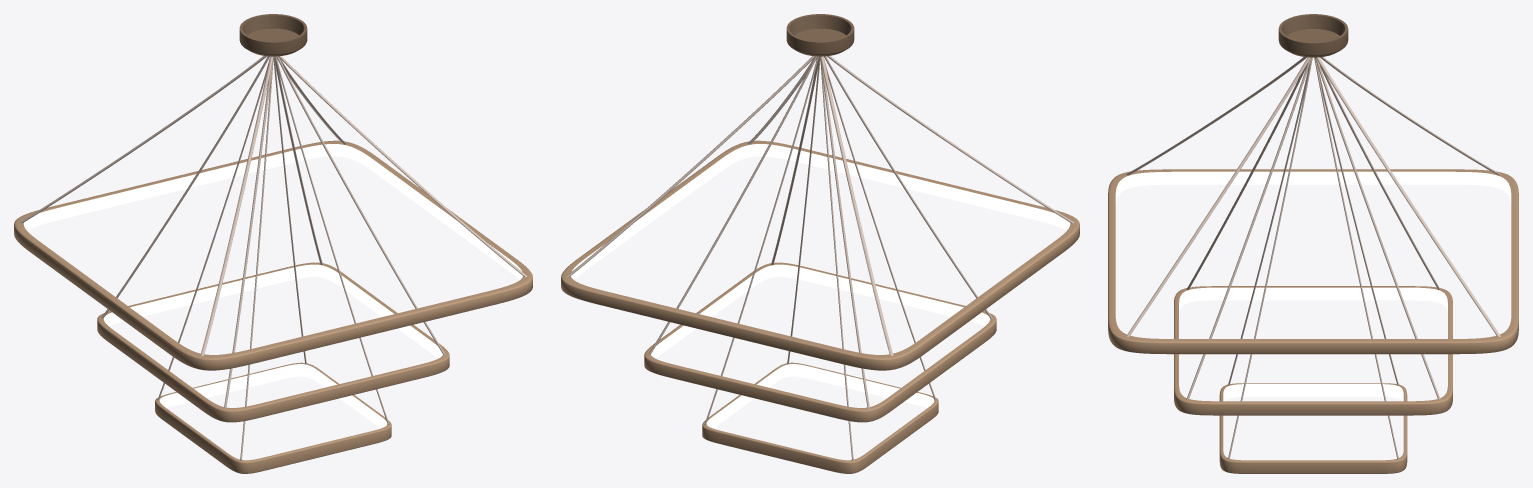
The picture shows the model from 3 angles, left to right: view 1: azimuth 30°, elevation 25°; view 2: azimuth 150°, elevation 25°; view 3: azimuth 270°, elevation 25°; orthographic projection. The views are drawn at different scales.
Parts seen in each view (by area): view 1: lamp, Cylinder; view 2: lamp, Cylinder; view 3: lamp, Cylinder.
Boxes of the visible parts, box(x1,y1,x2,y2) form: lamp: box(14, 56, 532, 473); Cylinder: box(239, 14, 307, 56); lamp: box(561, 56, 1079, 473); Cylinder: box(786, 14, 854, 56); lamp: box(1108, 57, 1518, 473); Cylinder: box(1278, 14, 1348, 57).
Size of the model in its own units: 1.12 by 1.23 by 1.12.
